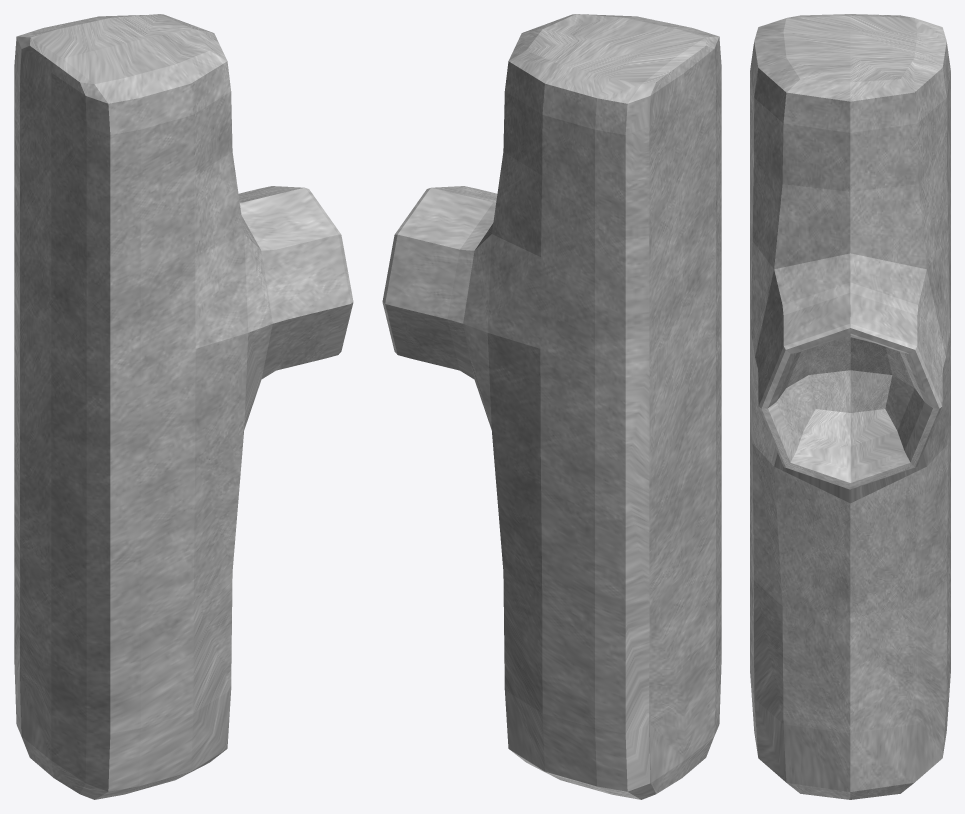
File: brokenPipe1.fbx
The picture shows the model from 3 angles, left to right: view 1: azimuth 30°, elevation 25°; view 2: azimuth 150°, elevation 25°; view 3: azimuth 270°, elevation 25°; orthographic projection.
Parts seen in each view (by area): view 1: BrokenPipe1; view 2: BrokenPipe1; view 3: BrokenPipe1.
Part boxes in pixels (left/top/right/bottom): BrokenPipe1: left=14, top=14, right=353, bottom=799; BrokenPipe1: left=382, top=14, right=721, bottom=799; BrokenPipe1: left=750, top=14, right=950, bottom=799.
Bounding box in the file's own units: 29.77 × 79.75 × 20.
1 material, 1 textured.
